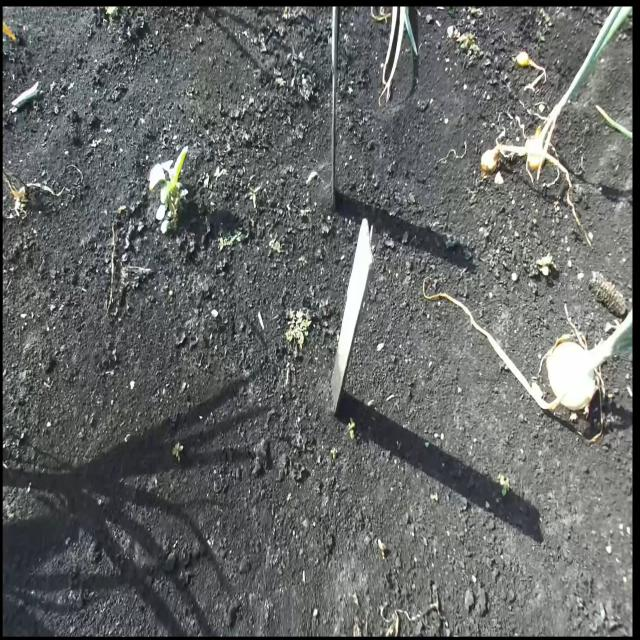onion: (550, 337, 598, 413)
